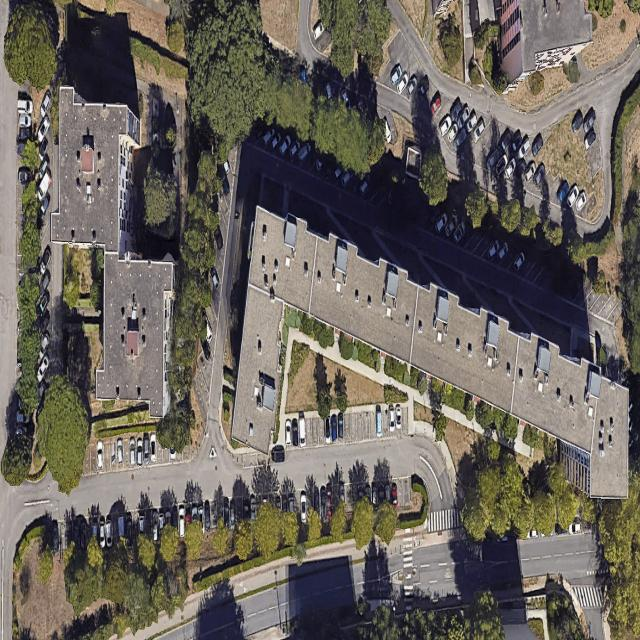immeuble: (224, 206, 626, 453), (49, 85, 142, 260), (94, 253, 174, 417), (229, 288, 290, 456), (499, 0, 592, 92), (590, 384, 627, 496)
